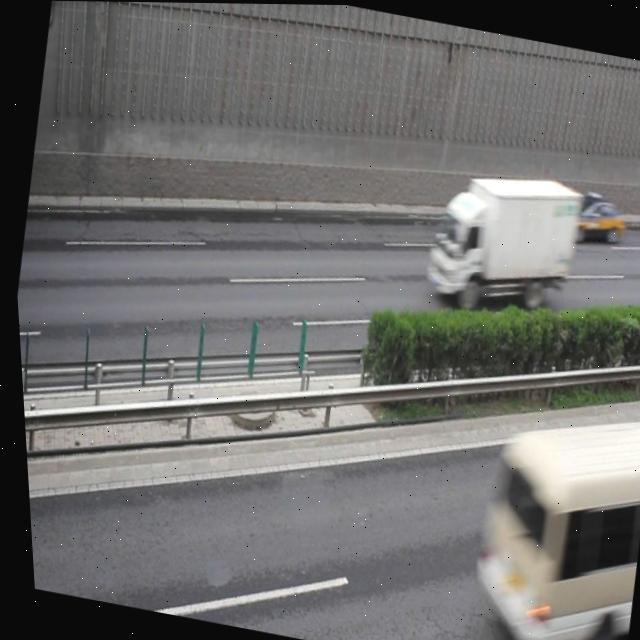bus: (413, 158, 584, 320)
car: (563, 187, 628, 249)
van: (446, 387, 640, 640)
